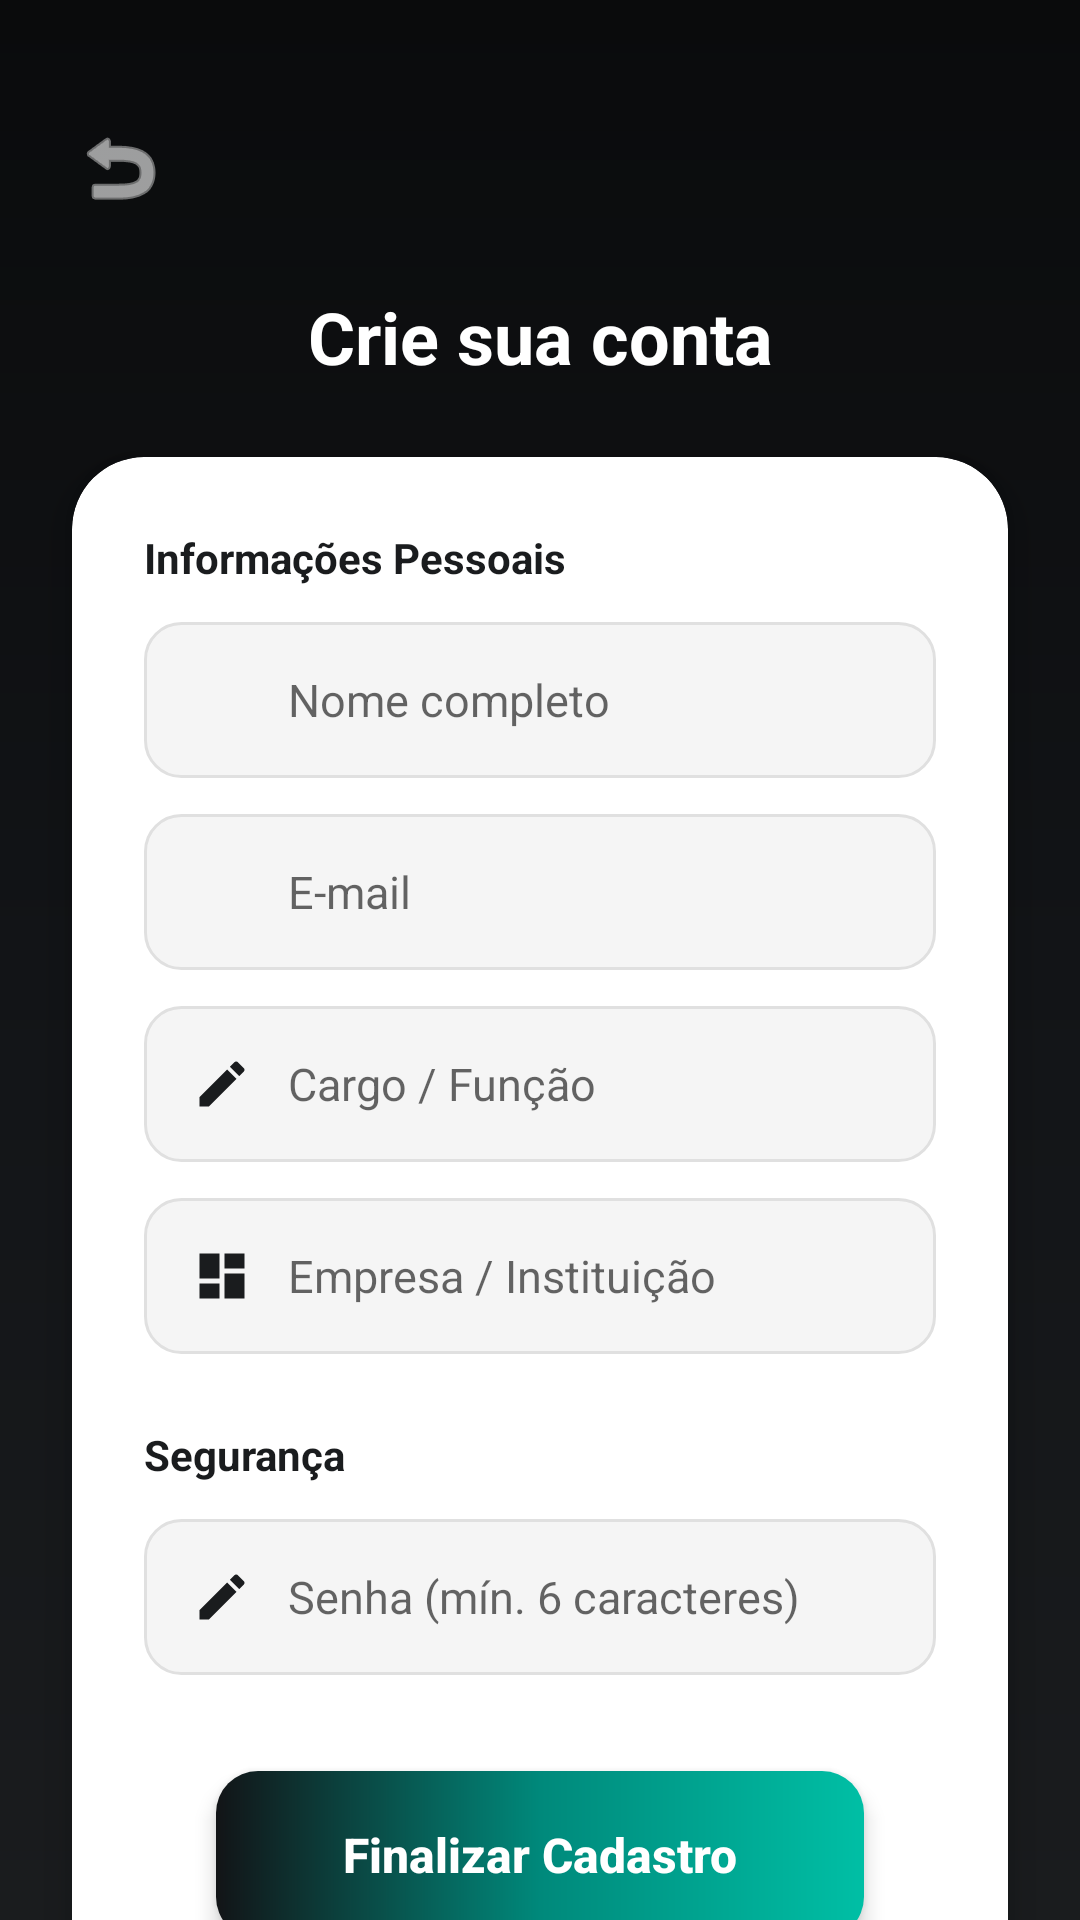

Where icons sit on this 1080×1920 app screen, as rect(x1, y1, x2, y2):
dashboard: rect(199, 1253, 245, 1299)
edit: rect(199, 1061, 245, 1107), rect(199, 1574, 245, 1620)
revert: rect(87, 137, 156, 200)
